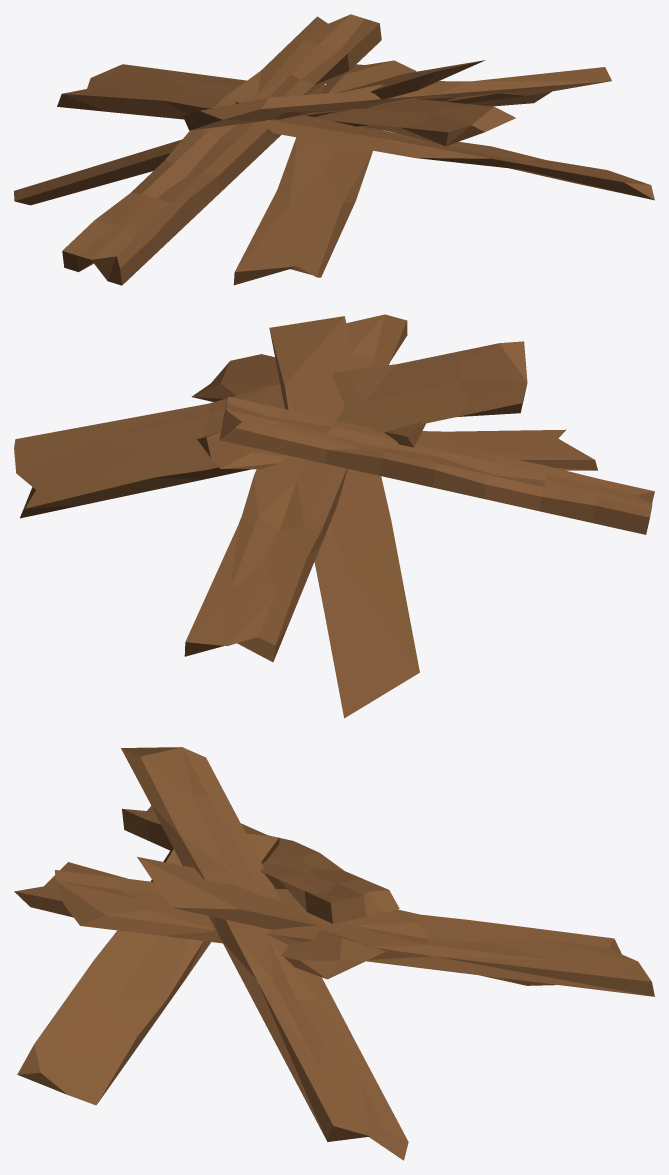
The model's file is ApiUnggun.fbx.
3 renders of one model, top to bottom at view 1: azimuth 30°, elevation 25°; view 2: azimuth 150°, elevation 25°; view 3: azimuth 270°, elevation 25°, orthographic. The views are drawn at different scales.
Visible parts, largest first — view 1: ApiUnggun; view 2: ApiUnggun; view 3: ApiUnggun.
Boxes of the visible parts, x1,y1,x2,y2 form: ApiUnggun: (14, 14, 654, 285); ApiUnggun: (14, 314, 654, 718); ApiUnggun: (14, 747, 654, 1160).
Size of the model in its own units: 268 by 98.64 by 228.
